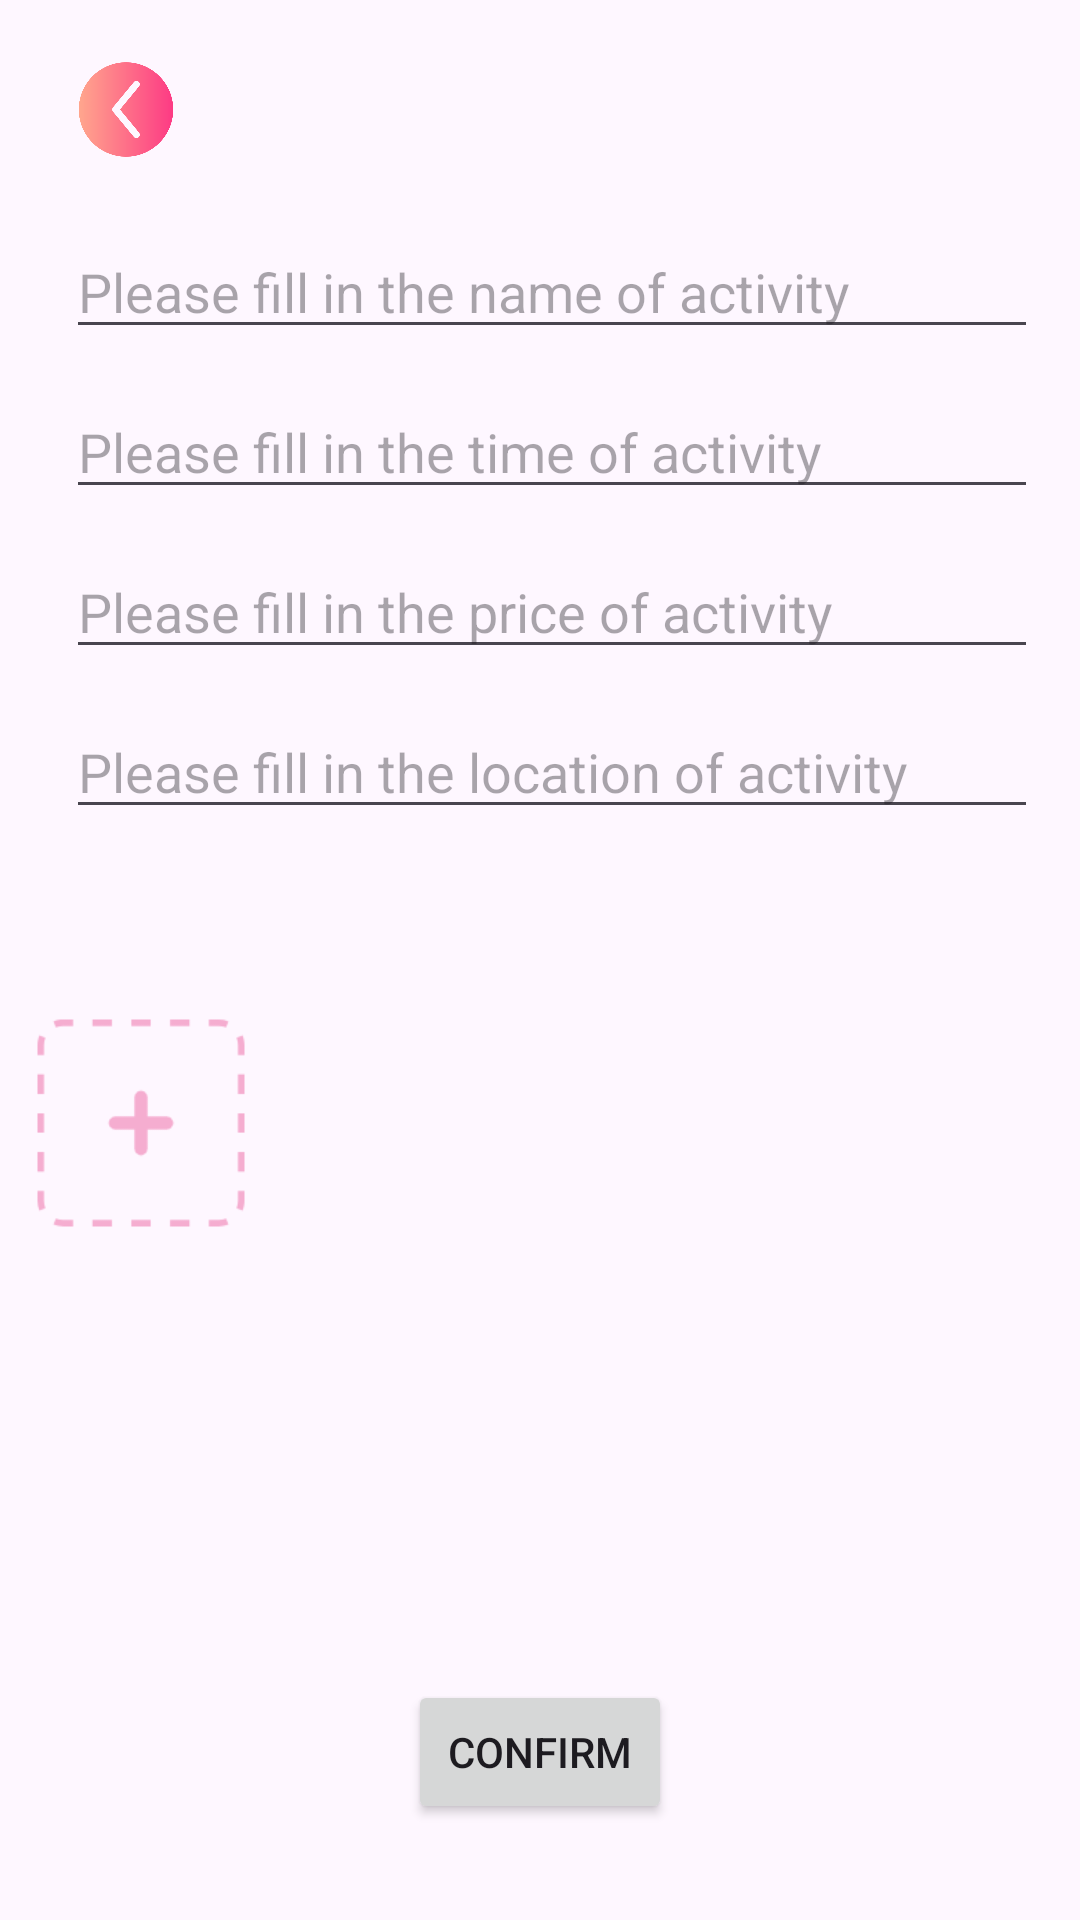

Icons on this 1080x1920 Android screen, each with its box as (left=x1, top=y1, right=x2, bottom=y2):
left arrow: (left=79, top=62, right=173, bottom=157)
upload: (left=37, top=1019, right=245, bottom=1227)
